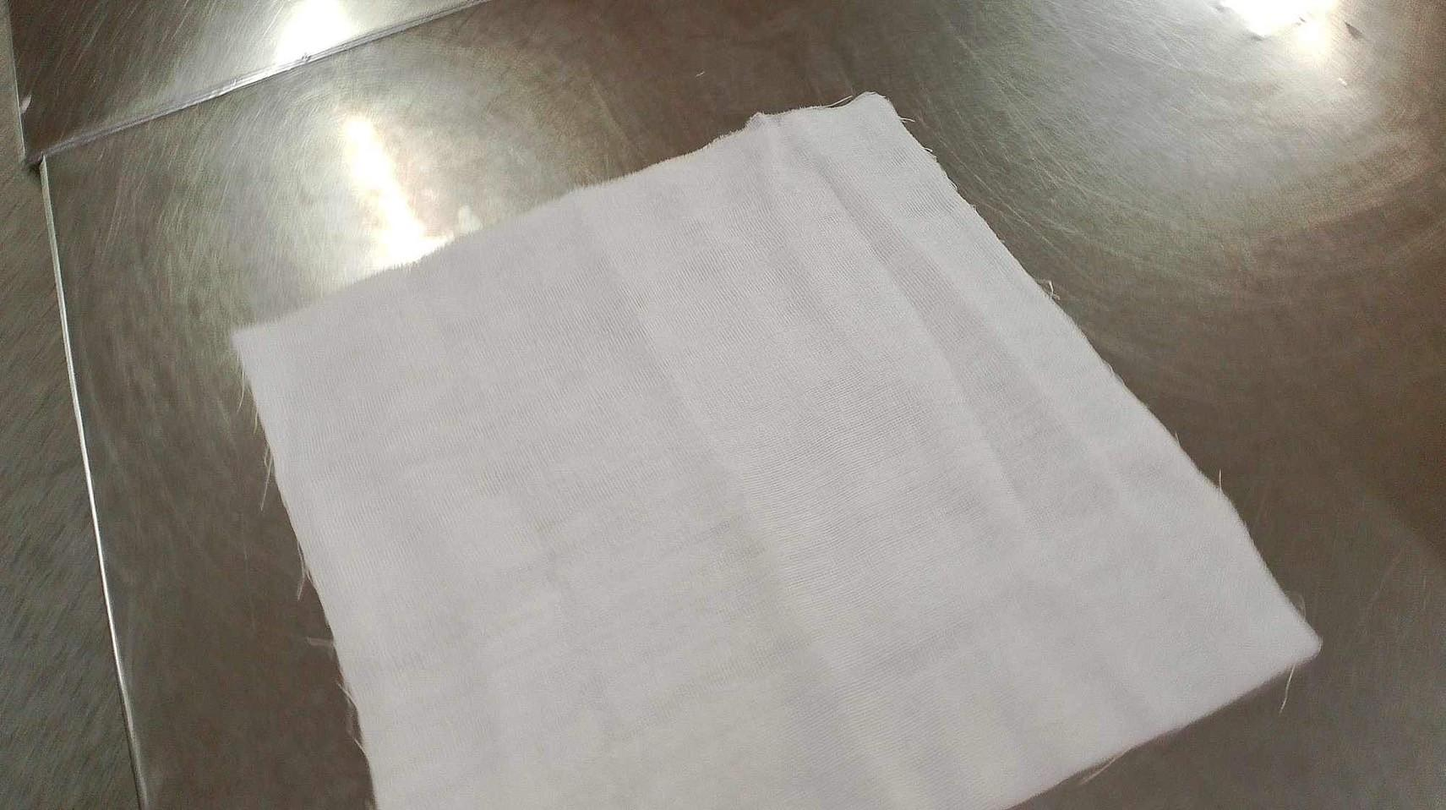Infectious: (227, 88, 1323, 807)
Sharps: (30, 151, 154, 806)
